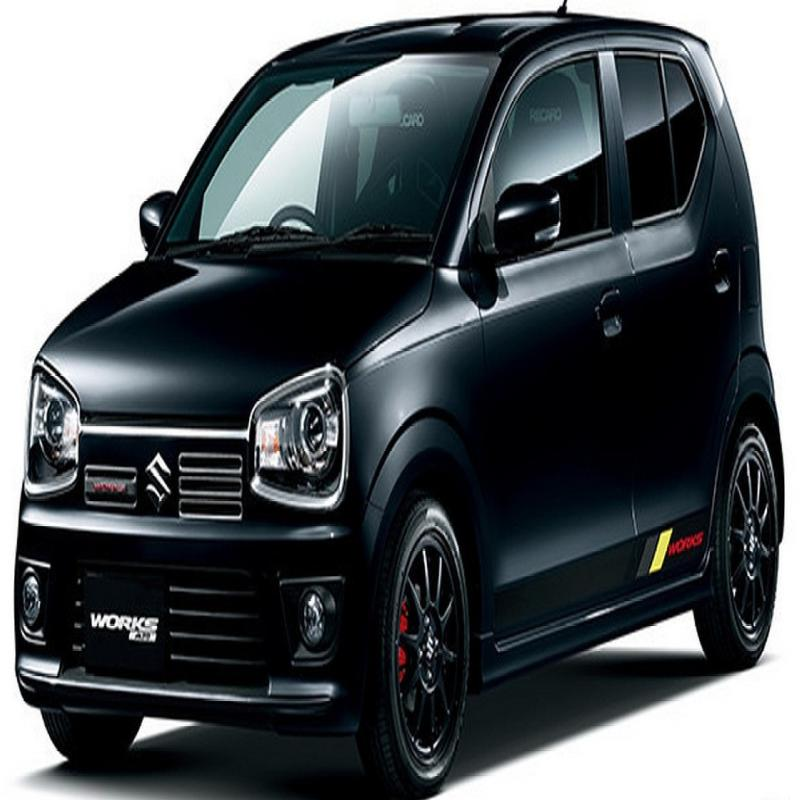car: (22, 27, 770, 757)
